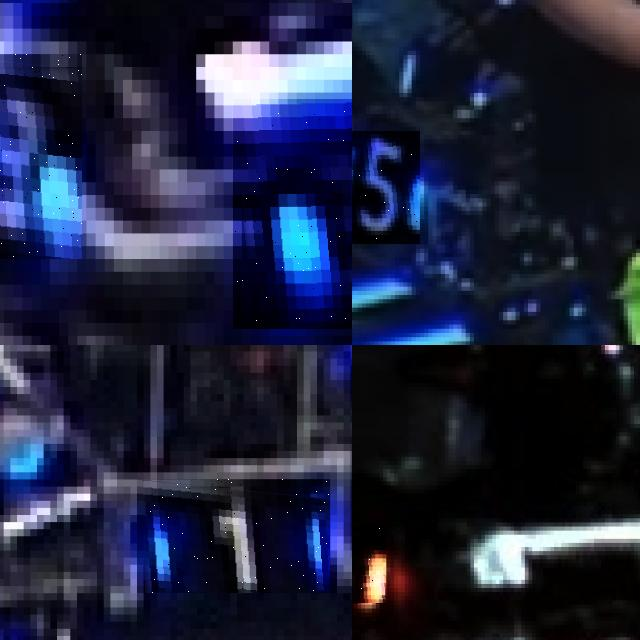B1: (137, 479, 330, 594)
B3: (232, 98, 352, 329), (0, 54, 81, 259)
B5: (352, 130, 419, 244)
Rs: (352, 526, 386, 604)
